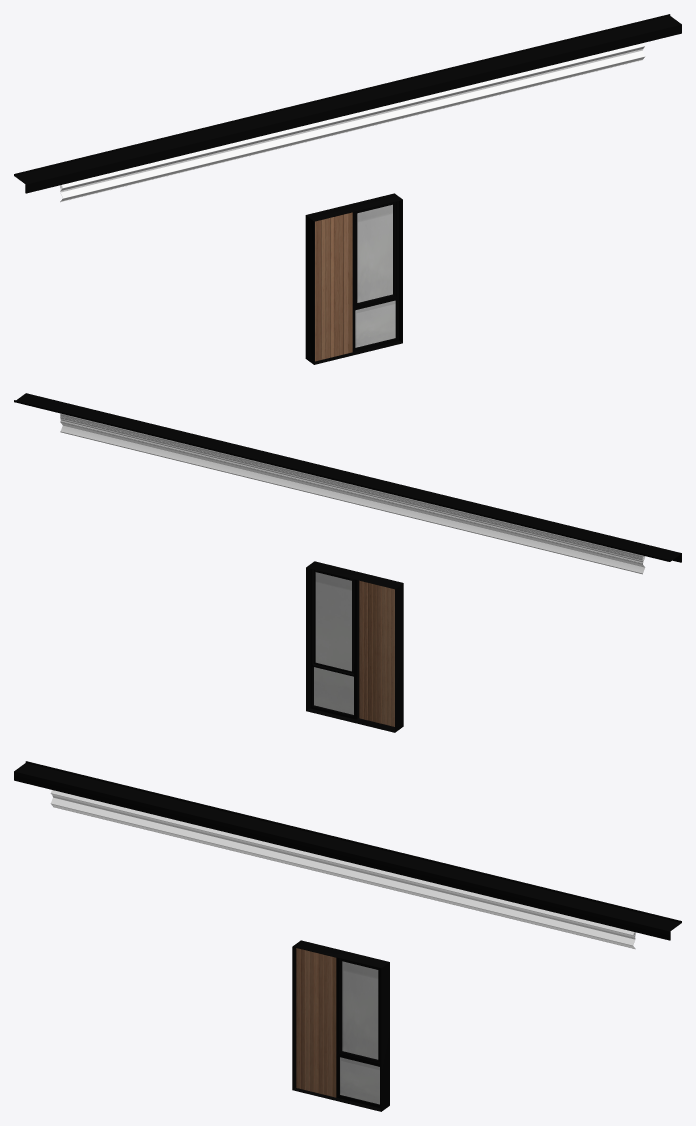
Rendered from Leiva Fachada Horizontal.glb.
The picture shows the model from 3 angles, top to bottom: view 1: azimuth 30°, elevation 25°; view 2: azimuth 150°, elevation 25°; view 3: azimuth 330°, elevation 25°; orthographic projection.
Parts seen in each view (by area): view 1: Box006, matrix1_4, Ventana2, Lamas2, Marco2, matrix1_2; view 2: Box006, matrix1_4, Ventana2, Lamas2, Marco2, matrix1_7, matrix1_2, matrix1_3; view 3: Box006, matrix1_4, Ventana2, Lamas2, Marco2, matrix1_2.
Boxes of the visible parts, x1,y1,x2,y2 form: Box006: [14, 14, 681, 193]; matrix1_4: [60, 43, 645, 202]; Ventana2: [352, 201, 398, 351]; Lamas2: [315, 212, 352, 361]; Marco2: [305, 193, 402, 364]; matrix1_2: [60, 49, 643, 191]; Box006: [14, 393, 681, 562]; matrix1_4: [60, 420, 645, 574]; Ventana2: [310, 569, 359, 719]; Lamas2: [359, 580, 394, 726]; Marco2: [306, 561, 403, 732]; matrix1_7: [60, 413, 642, 560]; matrix1_2: [60, 415, 643, 563]; matrix1_3: [61, 413, 642, 558]; Box006: [14, 761, 681, 940]; matrix1_4: [50, 790, 635, 949]; Ventana2: [336, 958, 380, 1108]; Lamas2: [296, 948, 336, 1097]; Marco2: [292, 940, 389, 1111]; matrix1_2: [52, 796, 635, 938].
Size of the model in its own units: 9 by 3.25 by 0.4028.
5 materials, 2 textured.
